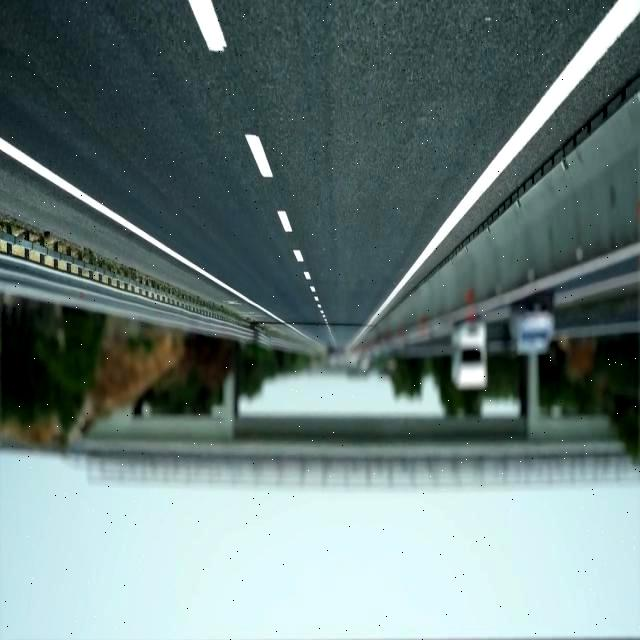lane: (351, 0, 640, 348), (0, 137, 310, 338), (189, 1, 226, 51), (246, 134, 272, 178), (278, 211, 292, 232), (294, 249, 302, 262)
road: (1, 1, 616, 347), (398, 19, 640, 299), (1, 153, 233, 304)
